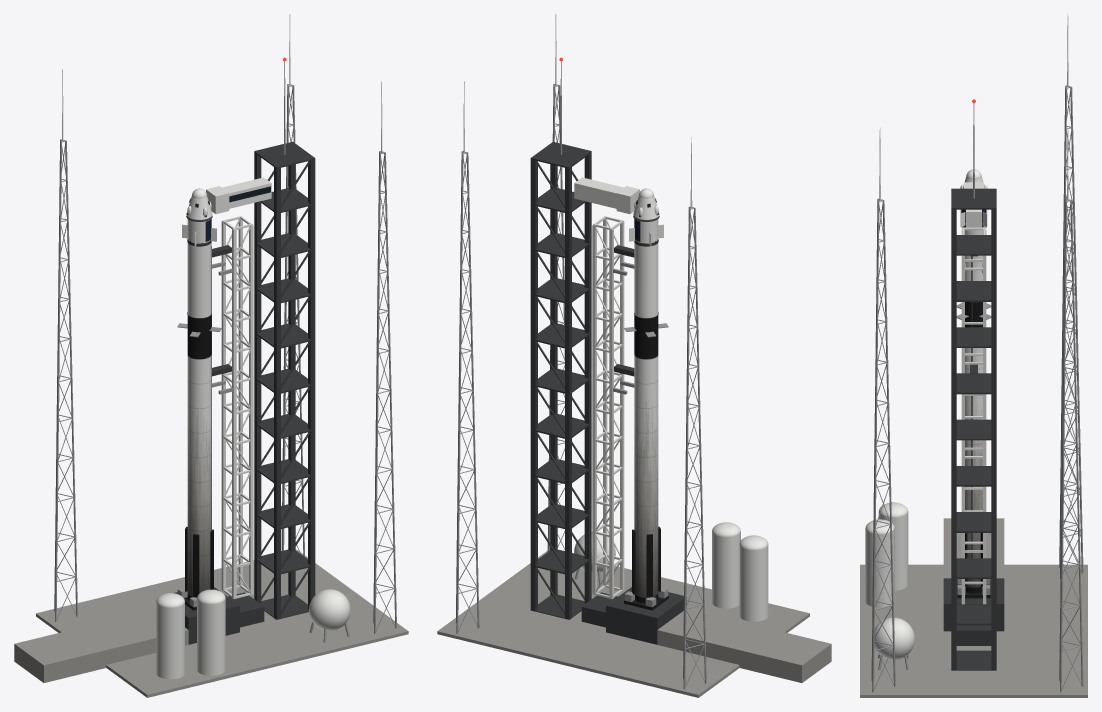
The model's file is EA06_falcon9_dragon_on_pad.glb.
3 views of the same model, side by side, from view 1: azimuth 30°, elevation 25°; view 2: azimuth 150°, elevation 25°; view 3: azimuth 270°, elevation 25° (orthographic). The views are drawn at different scales.
Parts seen in each view (by area): view 1: pad_slab, launch_table, hold_down, first_stage, second_stage; view 2: pad_slab, launch_table, hold_down, first_stage, second_stage; view 3: pad_slab, launch_table, hold_down, first_stage, second_stage.
Boxes of the visible parts, left/top/right/bottom form: pad_slab: left=14, top=14, right=408, bottom=697; launch_table: left=173, top=141, right=315, bottom=644; hold_down: left=54, top=61, right=396, bottom=642; first_stage: left=187, top=315, right=211, bottom=596; second_stage: left=182, top=188, right=216, bottom=317; pad_slab: left=437, top=14, right=831, bottom=697; launch_table: left=530, top=141, right=686, bottom=644; hold_down: left=455, top=61, right=706, bottom=689; first_stage: left=634, top=315, right=658, bottom=597; second_stage: left=629, top=188, right=663, bottom=317; pad_slab: left=860, top=14, right=1087, bottom=697; launch_table: left=943, top=188, right=1004, bottom=670; hold_down: left=871, top=85, right=1083, bottom=692; first_stage: left=965, top=302, right=982, bottom=587; second_stage: left=960, top=169, right=987, bottom=280.
Size of the model in its own units: 57 by 92.9 by 34.
Materials: 7 (1 with a texture image).
